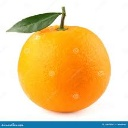orange: (6, 6, 113, 114)
